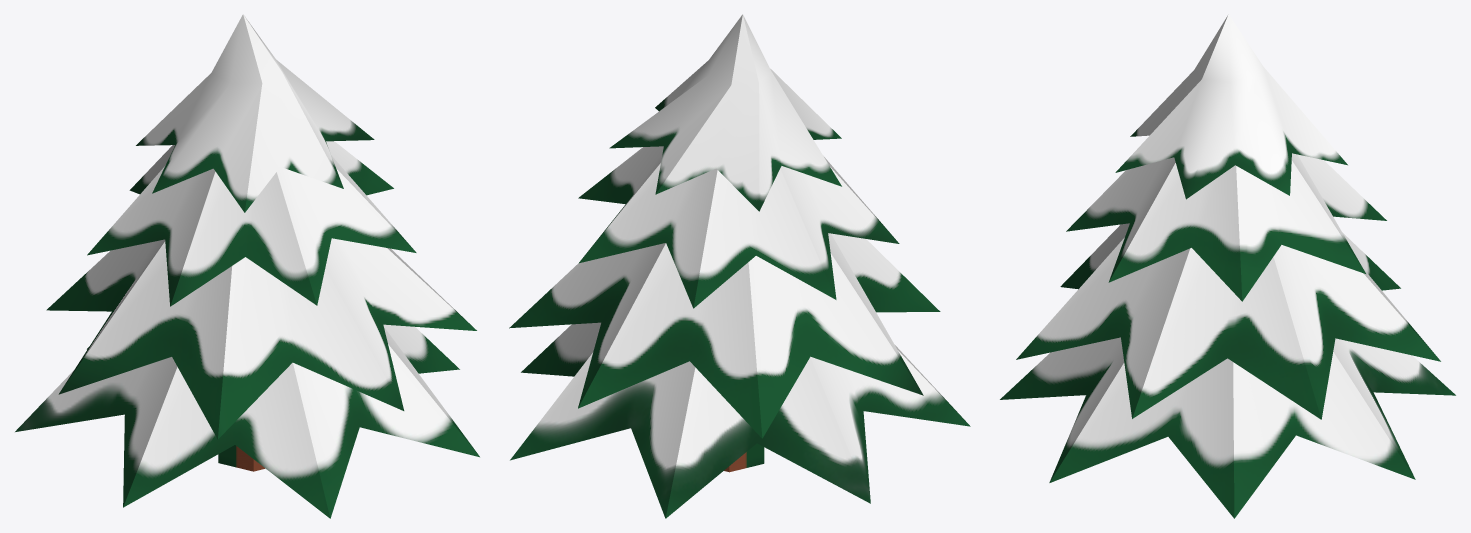
File: PineTreeUVedSmooth.FBX
3 renders of one model, left to right at view 1: azimuth 30°, elevation 25°; view 2: azimuth 150°, elevation 25°; view 3: azimuth 270°, elevation 25°, orthographic. The views are drawn at different scales.
Visible parts, largest first — view 1: Leaves; view 2: Leaves; view 3: Leaves.
Boxes of the visible parts, box(x1,y1,x2,y2) form: Leaves: box(15, 14, 479, 518); Leaves: box(509, 14, 970, 518); Leaves: box(1000, 14, 1455, 518).
Bounding box in the file's own units: 172 × 181 × 174.
